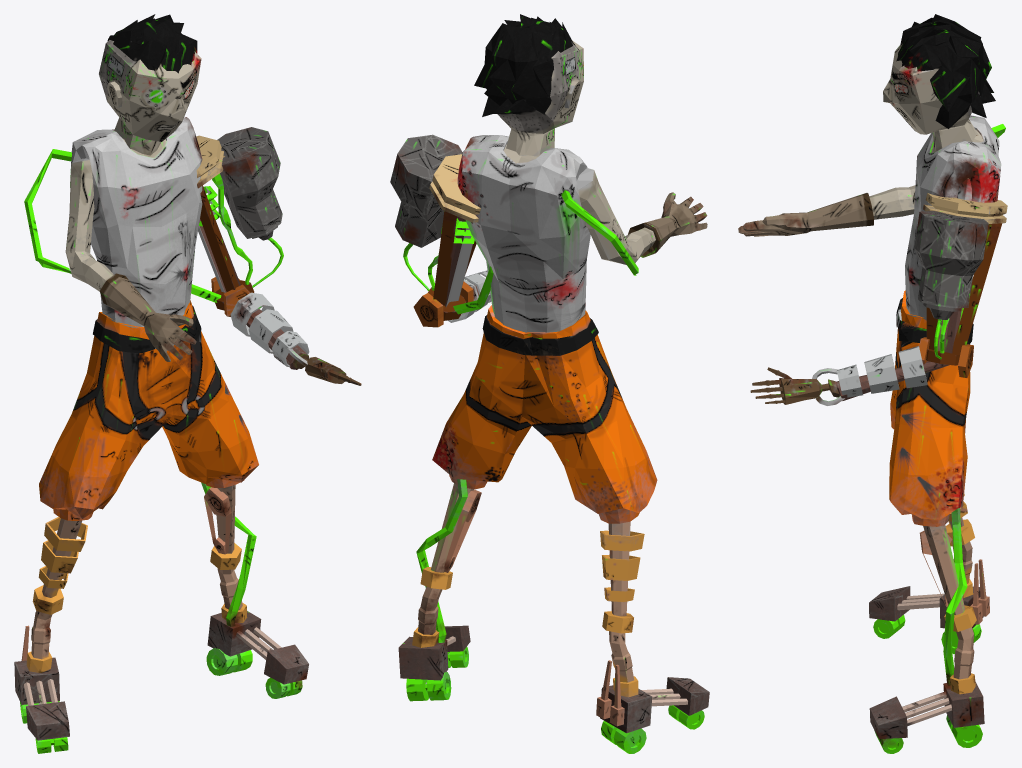
Rendered from CyborgFINALAnimation_000028.obj.
The picture shows the model from 3 angles, left to right: view 1: azimuth 30°, elevation 25°; view 2: azimuth 150°, elevation 25°; view 3: azimuth 270°, elevation 25°; orthographic projection. The views are drawn at different scales.
Parts seen in each view (by area): view 1: CyborgMesh_Cube.002; view 2: CyborgMesh_Cube.002; view 3: CyborgMesh_Cube.002.
Part boxes in pixels (x1=…): CyborgMesh_Cube.002: x1=14, y1=14, x2=361, y2=753; CyborgMesh_Cube.002: x1=390, y1=14, x2=709, y2=753; CyborgMesh_Cube.002: x1=738, y1=14, x2=1007, y2=753.
Size of the model in its own units: 4.03 by 9.64 by 3.47.
